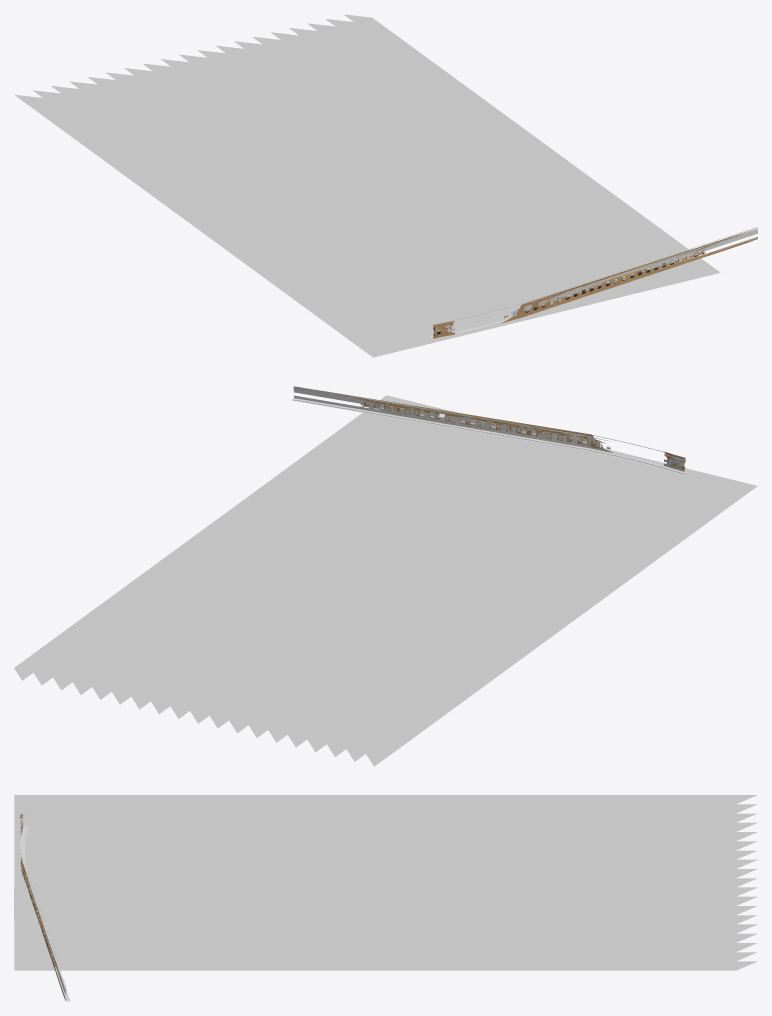
Rendered from zona_-7_0.glb.
3 views of the same model, one above another, from view 1: azimuth 30°, elevation 25°; view 2: azimuth 150°, elevation 25°; view 3: azimuth 270°, elevation 25° (orthographic). The views are drawn at different scales.
Parts seen in each view (by area): view 1: z_calle_-7_0, z_casas_-7_0, z_fachadas_-7_0; view 2: z_calle_-7_0, z_fachadas_-7_0, z_casas_-7_0; view 3: z_calle_-7_0, z_fachadas_-7_0, z_casas_-7_0.
Boxes of the visible parts, box(x1,y1,x2,y2) form: z_calle_-7_0: box(14, 14, 720, 357); z_casas_-7_0: box(433, 229, 753, 338); z_fachadas_-7_0: box(433, 228, 757, 337); z_calle_-7_0: box(14, 395, 757, 766); z_fachadas_-7_0: box(293, 386, 686, 471); z_casas_-7_0: box(297, 386, 685, 471); z_calle_-7_0: box(14, 795, 757, 1001); z_fachadas_-7_0: box(18, 816, 65, 1000); z_casas_-7_0: box(19, 813, 64, 997).
Size of the model in its own units: 134 by 4.43 by 204.
